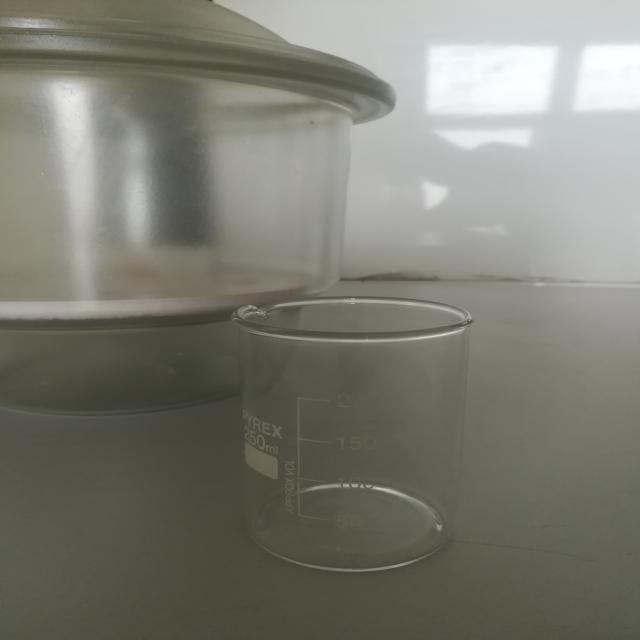Beaker: (205, 262, 492, 605)
